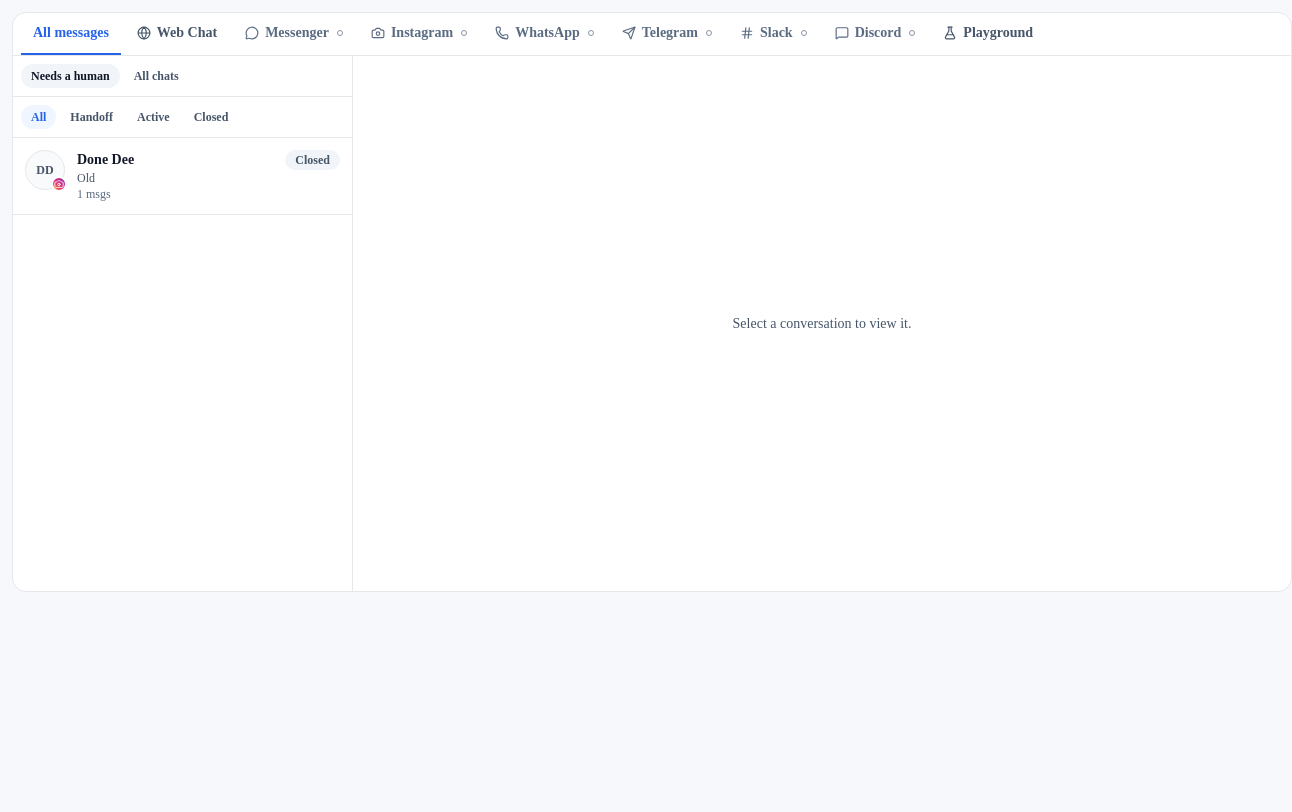
it: All chats toggle › offers no take-over on a closed chat
The width and height of the screenshot is (1292, 812).
Click the text "Done Dee": (106, 160) x1=77 y1=150 x2=134 y2=170
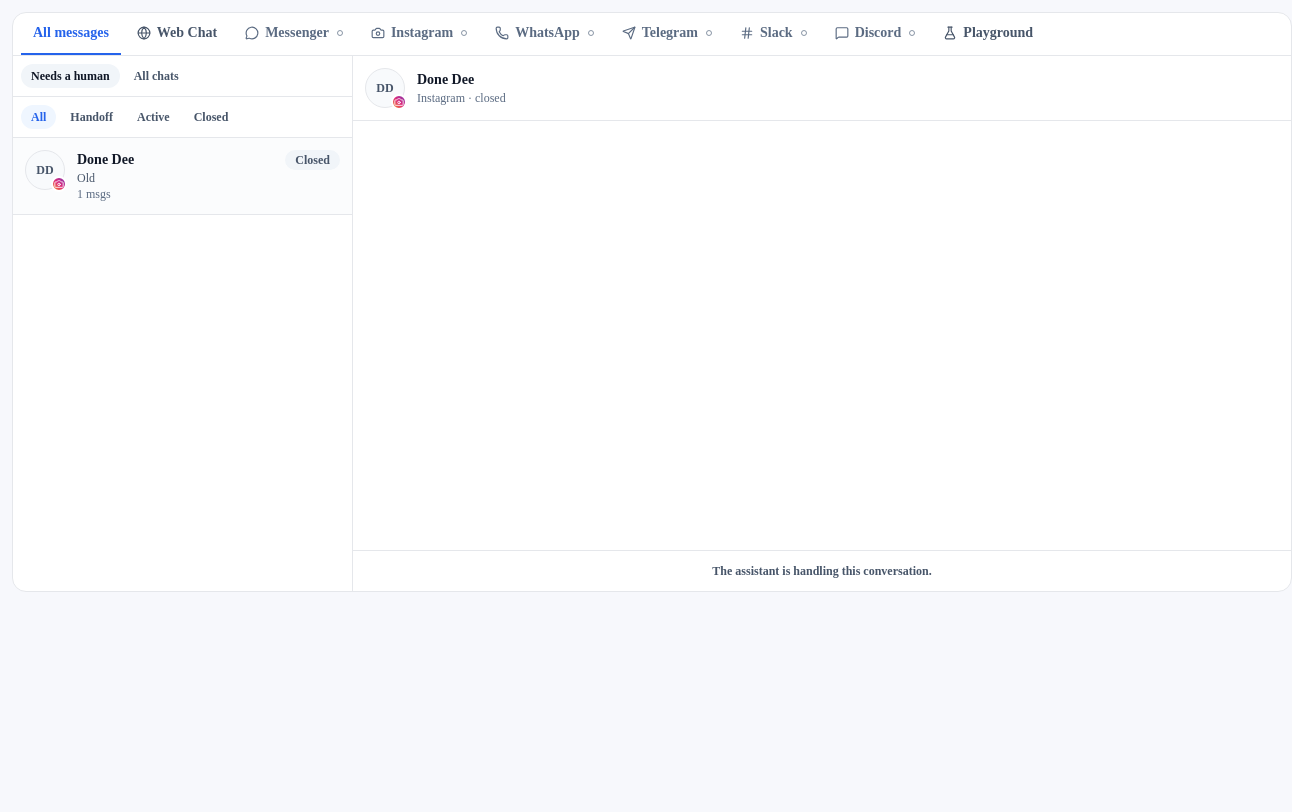
Expected: the text "The assistant is handling this conversation." is shown, x1=353 y1=550 x2=1291 y2=591
